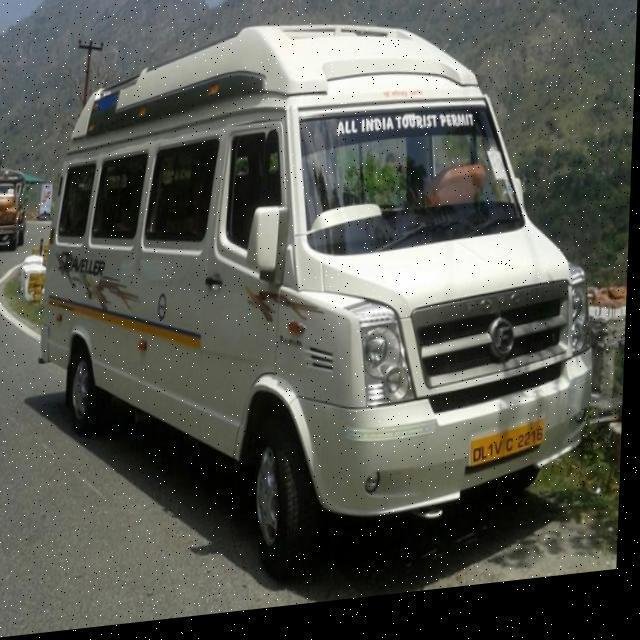van: (26, 0, 612, 615), (0, 164, 32, 256)
